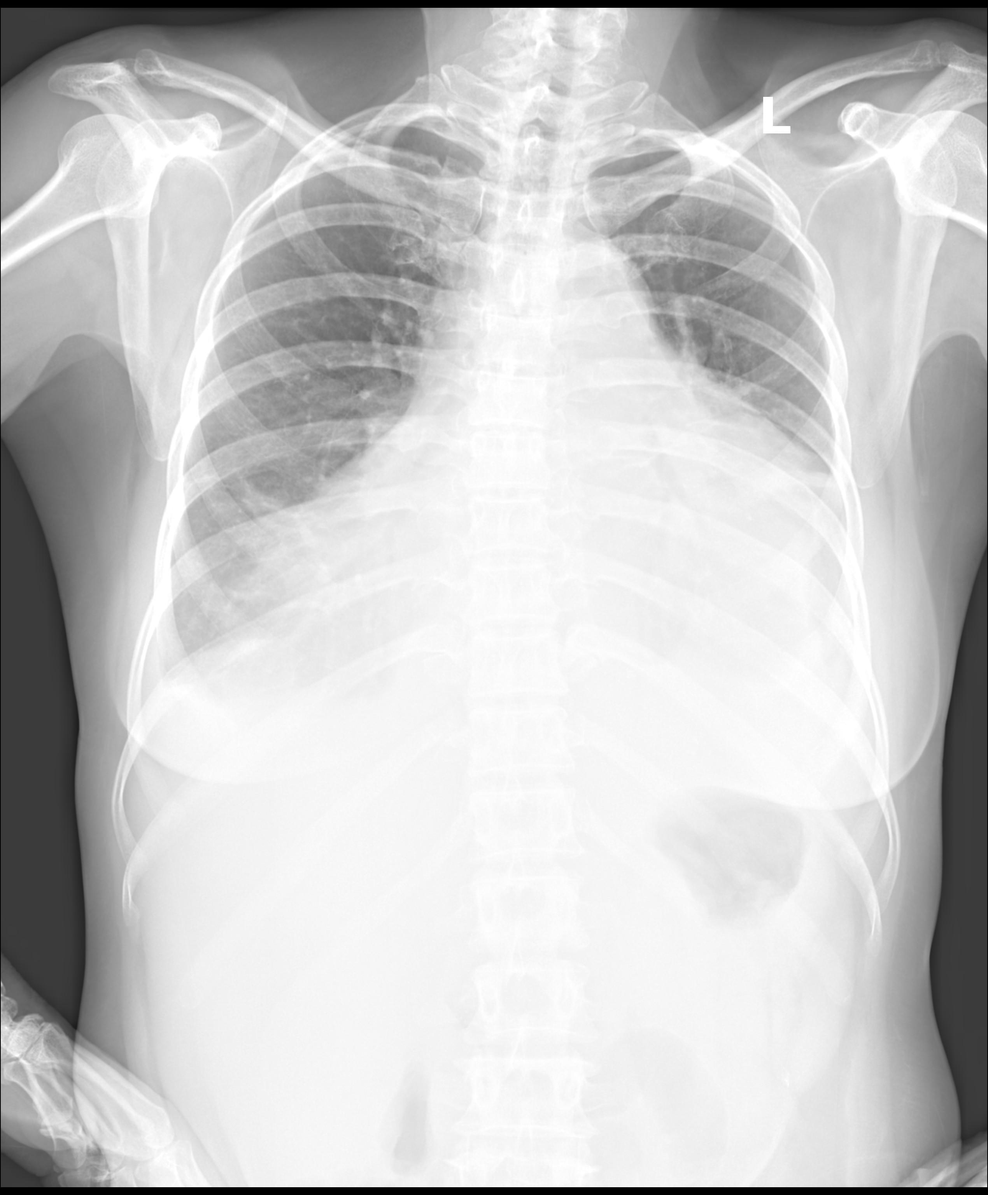Cardiomegaly: (354, 435, 835, 702)
